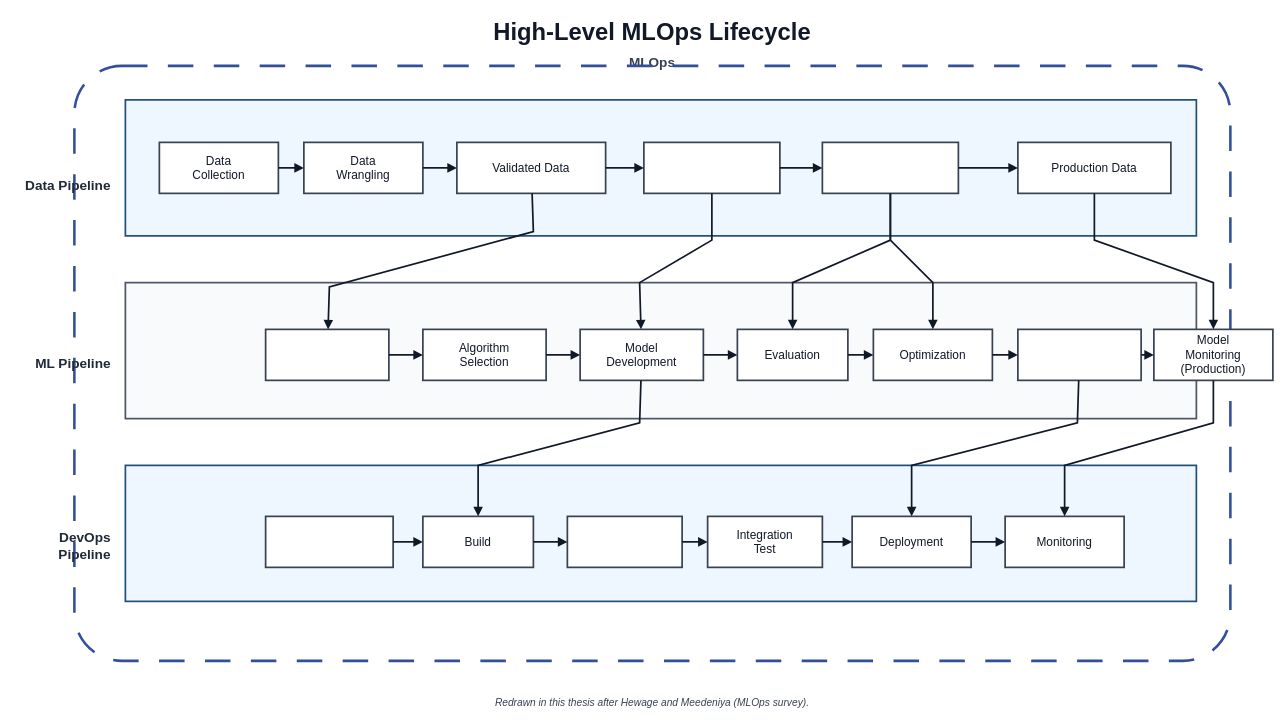
Image size: 1288x726. Some labels were removed from this diagram. Each missing label, with the centre of its shape:
"Code Commit" goes at point (329, 541).
"Feature Engineering" goes at point (326, 354).
"Model Deployment" goes at point (1079, 354).
"Test Data" goes at point (890, 167).
"Training Data" goes at point (711, 167).
"Unit Test" goes at point (624, 541).
